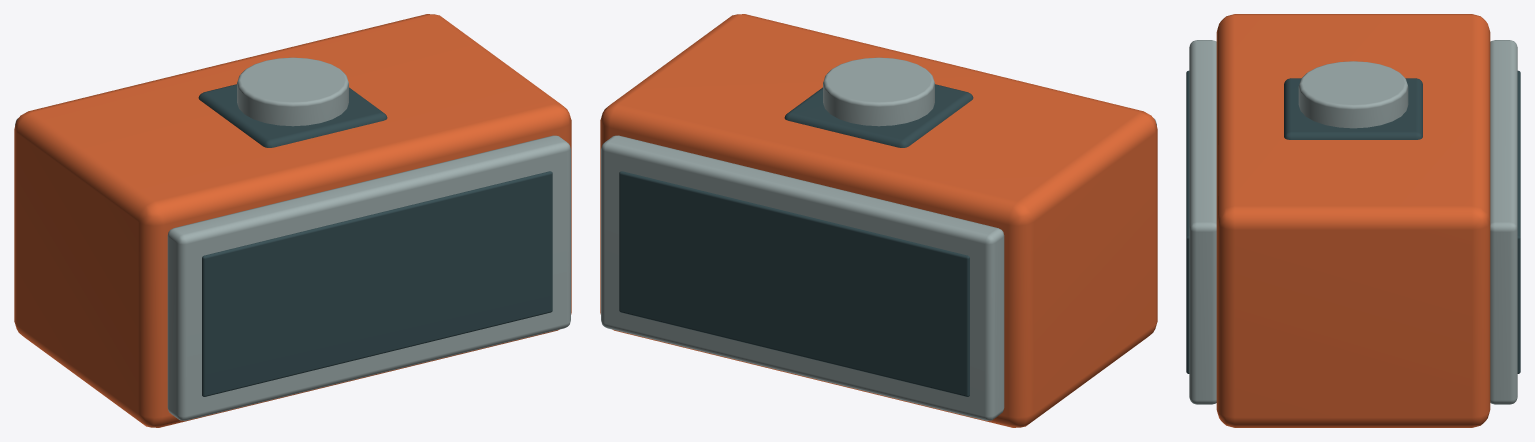
Rendered from hammer-head-round-03.glb.
The picture shows the model from 3 angles, left to right: view 1: azimuth 30°, elevation 25°; view 2: azimuth 150°, elevation 25°; view 3: azimuth 270°, elevation 25°; orthographic projection. The views are drawn at different scales.
Visible parts, largest first — view 1: HammerHead; view 2: HammerHead; view 3: HammerHead.
Boxes of the visible parts, <box> form: HammerHead: <box>14,14,571,427</box>; HammerHead: <box>600,14,1157,427</box>; HammerHead: <box>1186,14,1520,427</box>.
Size of the model in its own units: 1.6 by 0.9 by 1.1.
